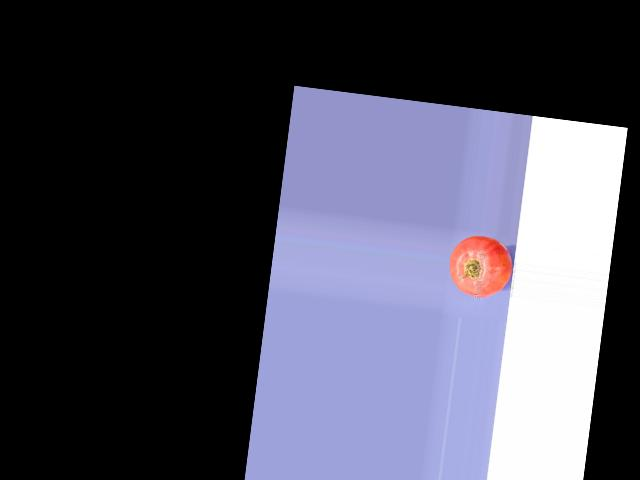tomato: (446, 231, 514, 300)
